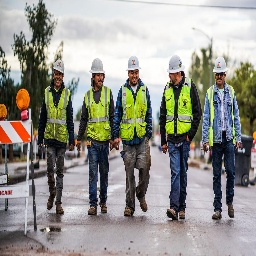helmet: (87, 58, 107, 82), (166, 58, 186, 81), (51, 58, 68, 80), (126, 57, 143, 78), (213, 59, 228, 79)
no-vest: (208, 85, 235, 154)
person: (202, 54, 242, 221), (114, 54, 154, 218), (77, 56, 117, 220), (36, 57, 75, 216), (159, 57, 196, 221)
vest: (163, 83, 196, 142), (84, 83, 113, 141), (44, 83, 69, 150), (122, 78, 146, 142)
